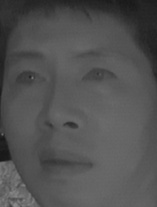eye: (79, 63, 119, 87), (11, 67, 51, 90)
mouth: (35, 143, 95, 180)
